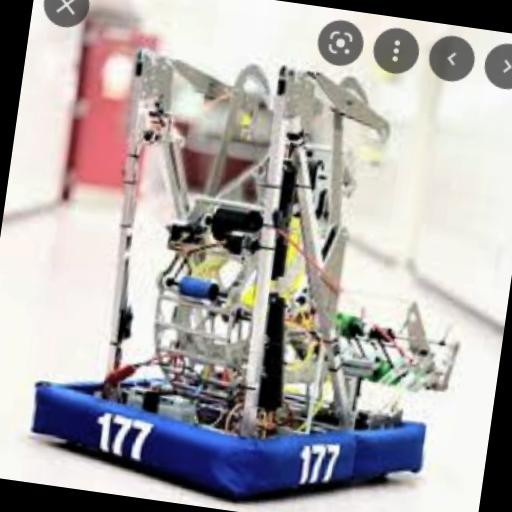robot: (23, 24, 500, 512)
